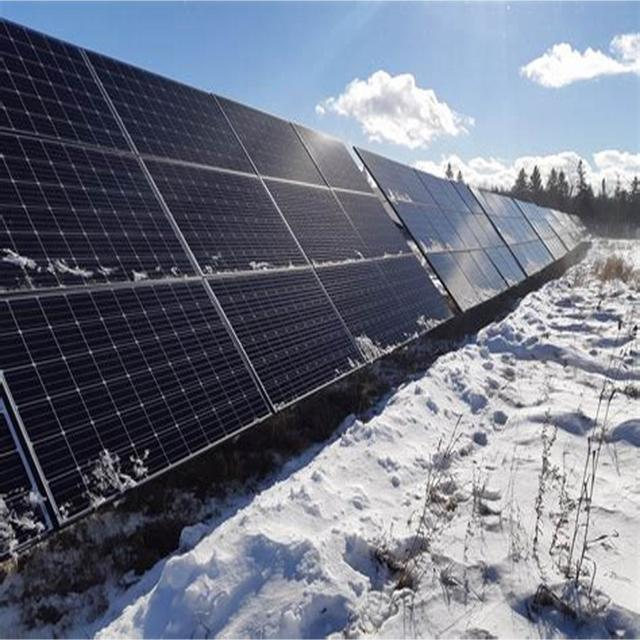snow covered: (56, 443, 158, 518), (1, 241, 99, 281), (352, 331, 404, 362), (97, 259, 123, 281), (243, 259, 280, 271), (130, 269, 154, 283), (168, 263, 184, 279)
